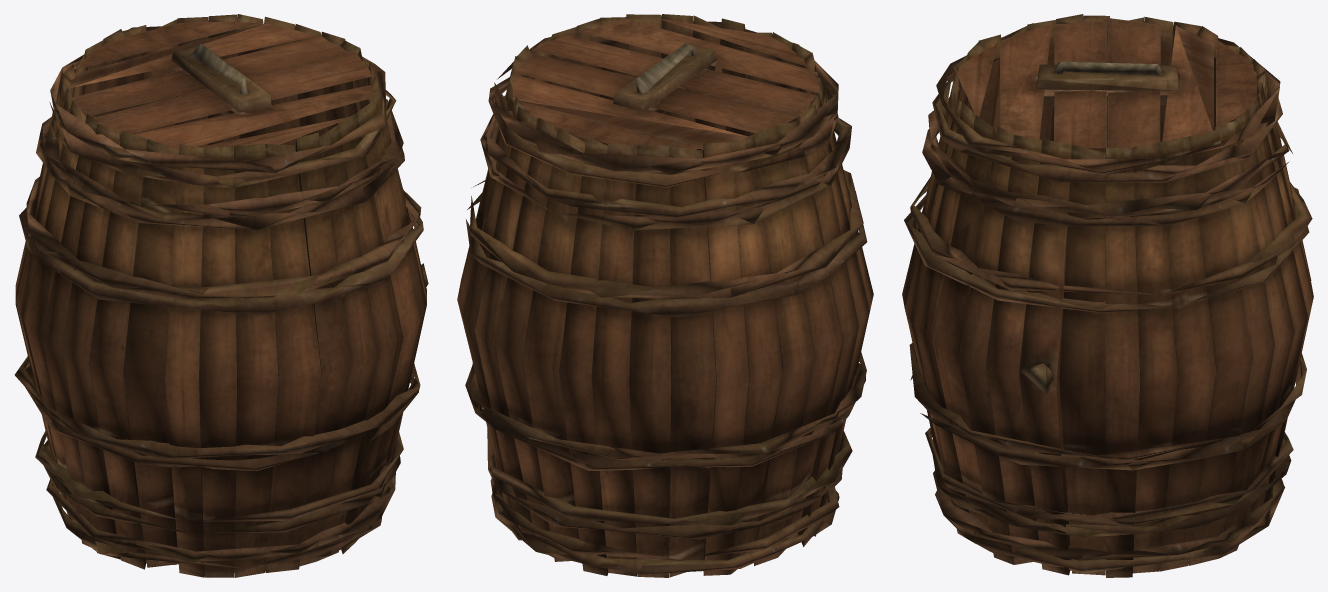
The model's file is scan_barrel.glb.
3 renders of one model, left to right at view 1: azimuth 30°, elevation 25°; view 2: azimuth 150°, elevation 25°; view 3: azimuth 270°, elevation 25°, orthographic.
Visible parts, largest first — view 1: scan_barrel; view 2: scan_barrel; view 3: scan_barrel.
Part boxes in pixels (box(x1,y1,x2,y2)): scan_barrel: box(14, 14, 428, 577); scan_barrel: box(457, 14, 873, 577); scan_barrel: box(902, 14, 1313, 577).
Size of the model in its own units: 0.7616 by 0.9176 by 0.7616.
1 material, 1 textured.
